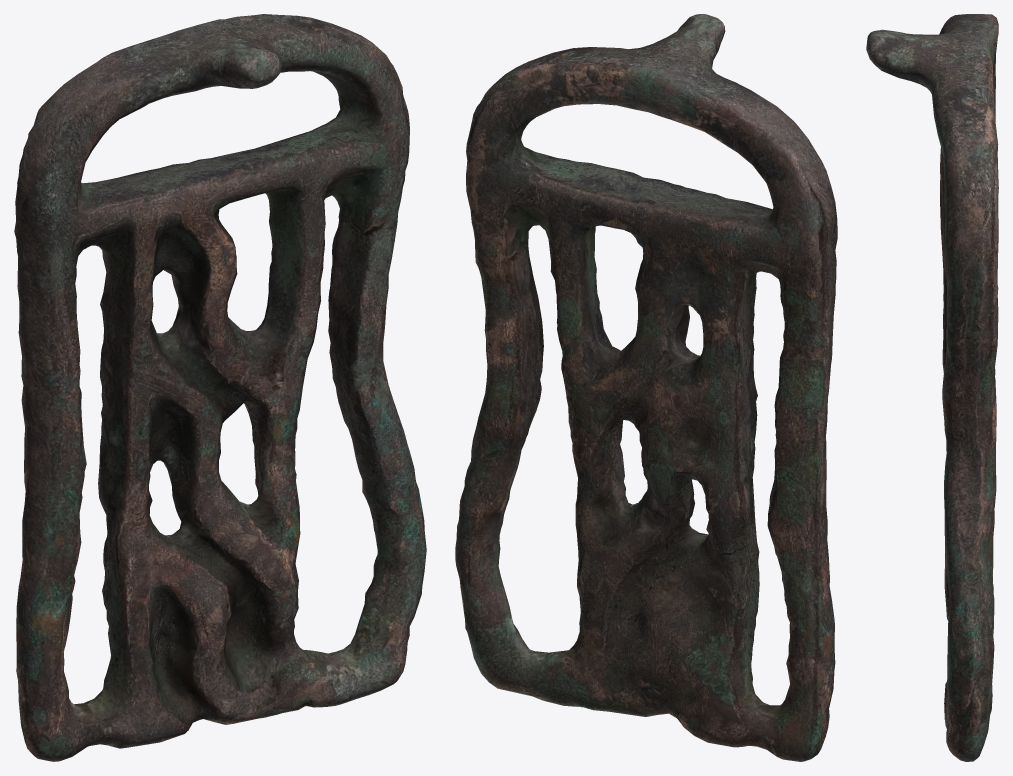
File: buckle2_low_re-transformed.glb
3 renders of one model, left to right at view 1: azimuth 30°, elevation 25°; view 2: azimuth 150°, elevation 25°; view 3: azimuth 270°, elevation 25°, orthographic. The views are drawn at different scales.
Visible parts, largest first — view 1: Model; view 2: Model; view 3: Model.
Part boxes in pixels (<box>): Model: <box>14,14,426,761</box>; Model: <box>455,14,837,761</box>; Model: <box>866,14,998,761</box>.
Size of the model in its own units: 2.7 by 4.61 by 0.8459.
1 material, 1 textured.
